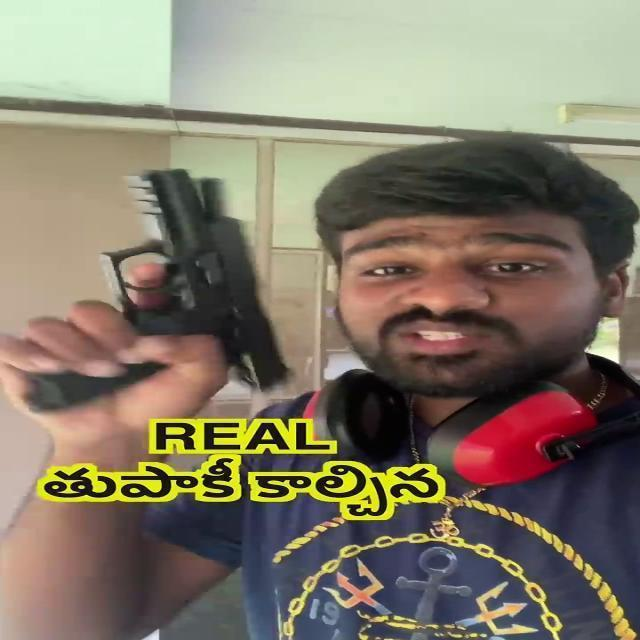Handgun: (27, 163, 298, 414)
